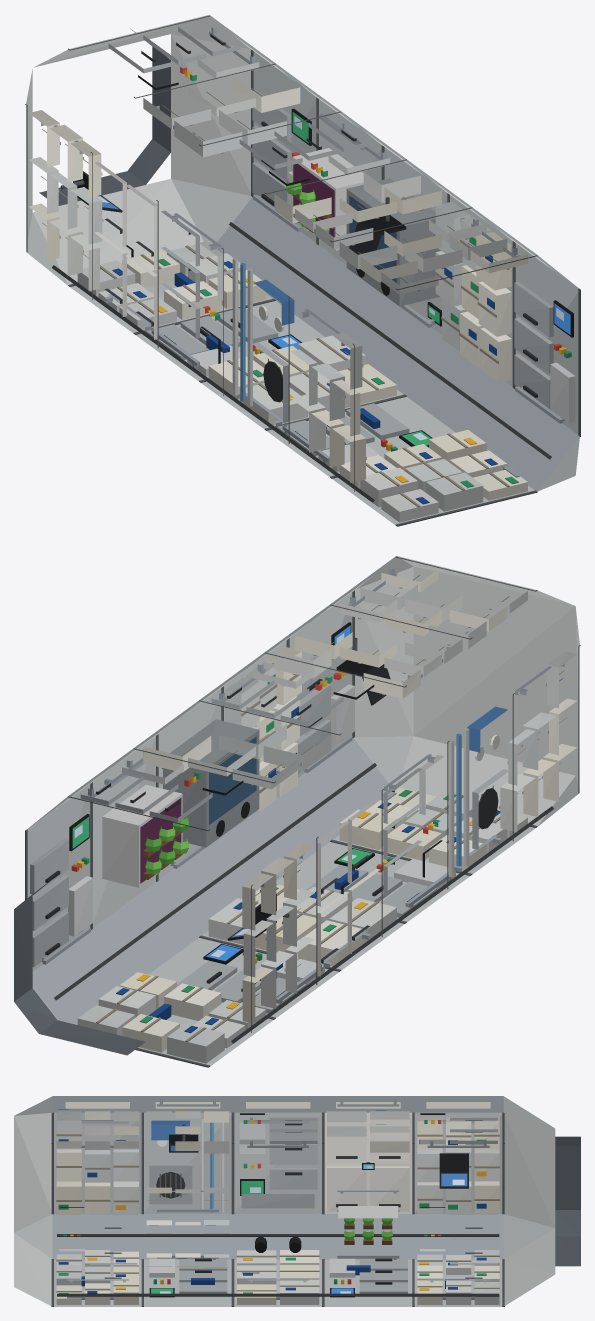
Rendered from m-columbus.glb.
3 renders of one model, top to bottom at view 1: azimuth 30°, elevation 25°; view 2: azimuth 150°, elevation 25°; view 3: azimuth 270°, elevation 25°, orthographic. The views are drawn at different scales.
Parts seen in each view (by area): view 1: columbus; view 2: columbus; view 3: columbus.
Part boxes in pixels (left/top/right/bottom): columbus: left=25, top=15, right=580, bottom=526; columbus: left=14, top=556, right=580, bottom=1067; columbus: left=14, top=1096, right=580, bottom=1306.
Size of the model in its own units: 2.1 by 2.1 by 6.6.
